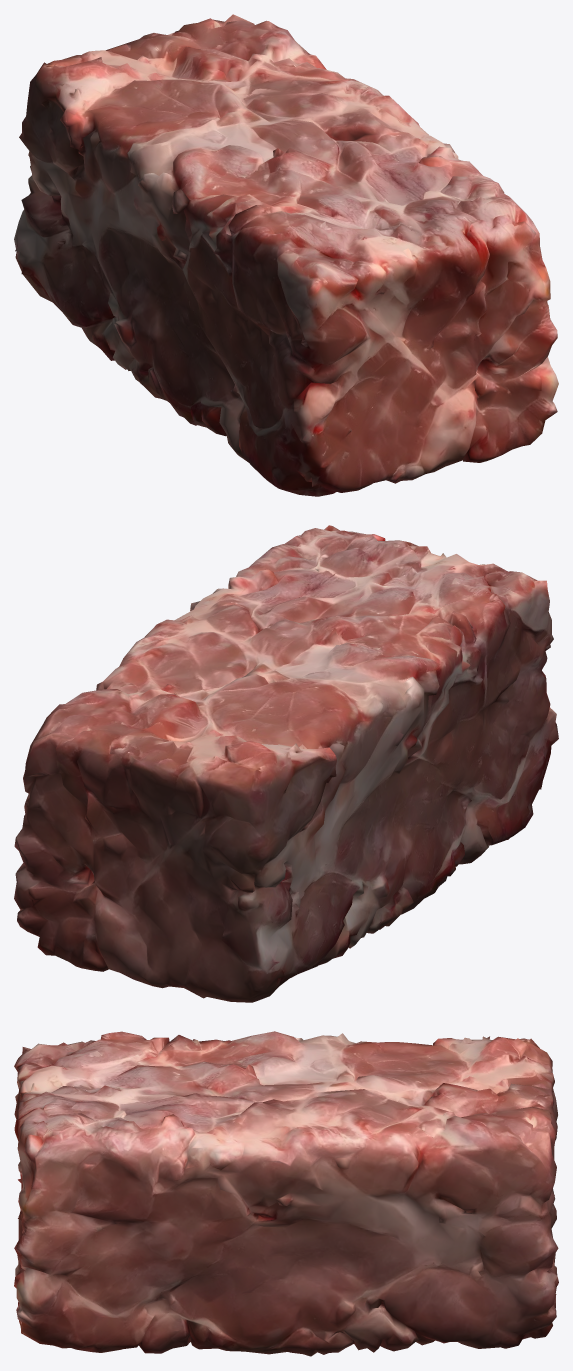
The model's file is tripo_convert_2b9f4bea-e91c-4b5d-9f0f-84e89327a7f9.fbx.
The picture shows the model from 3 angles, top to bottom: view 1: azimuth 30°, elevation 25°; view 2: azimuth 150°, elevation 25°; view 3: azimuth 270°, elevation 25°; orthographic projection. The views are drawn at different scales.
Parts seen in each view (by area): view 1: tripo_node_2b9f4bea; view 2: tripo_node_2b9f4bea; view 3: tripo_node_2b9f4bea.
Boxes of the visible parts, left/top/right/bottom form: tripo_node_2b9f4bea: left=14, top=14, right=558, bottom=496; tripo_node_2b9f4bea: left=14, top=525, right=558, bottom=1002; tripo_node_2b9f4bea: left=14, top=1031, right=558, bottom=1356.
Size of the model in its own units: 0.5274 by 0.476 by 1.
Materials: 1 (1 with a texture image).
